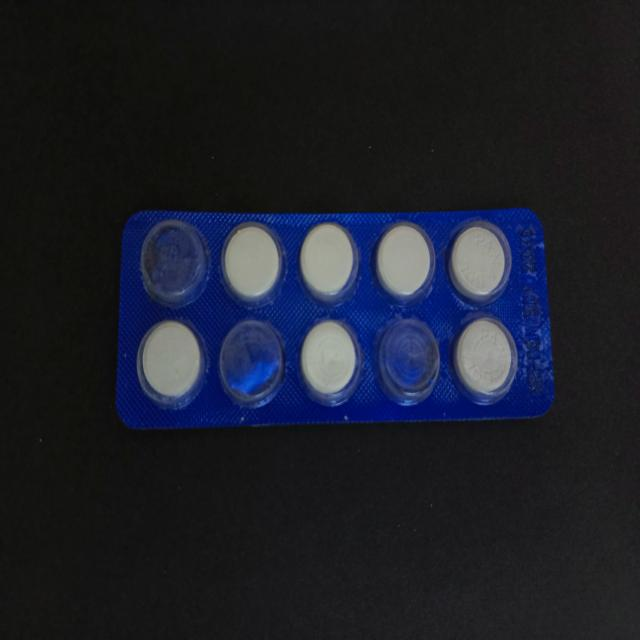defect: (136, 216, 212, 312), (375, 312, 445, 410), (216, 317, 288, 412)
